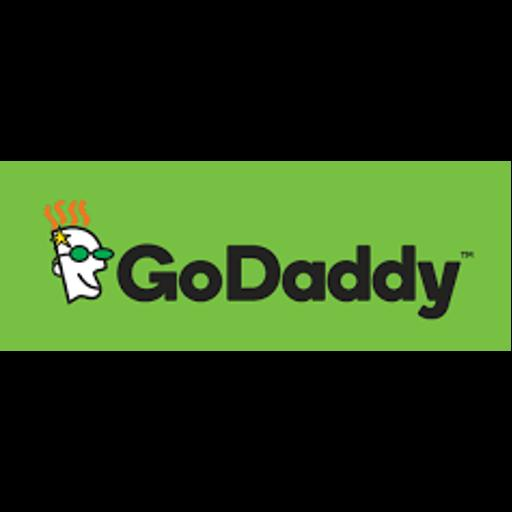GoDaddy: (0, 161, 511, 351)
